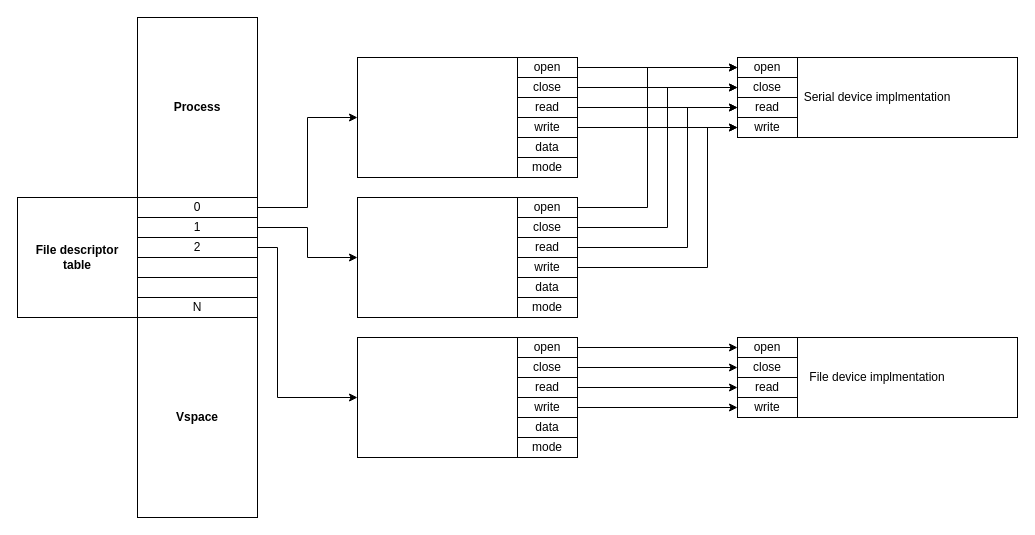
The diagram is 1035 pixels wide and 535 high, and some of its shapes have lost their labels. The box of each missing label's shape, as (x1, y1, x2, y2) in pixels:
Open file 1: (356, 56, 578, 178)
Open file 2: (356, 196, 578, 318)
Open file 3: (356, 336, 578, 458)
